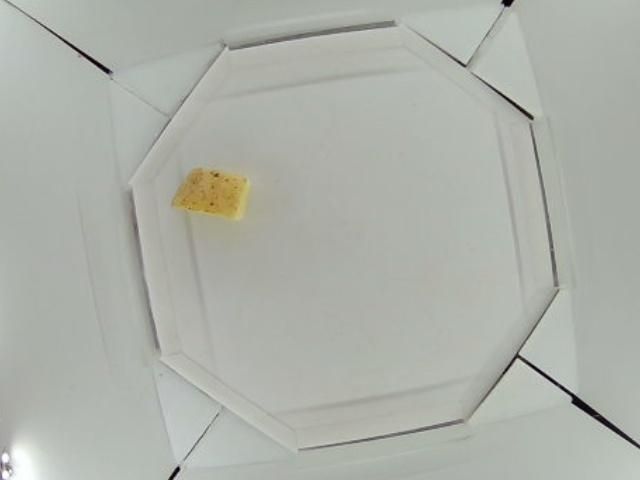Potato: (169, 163, 252, 222)
